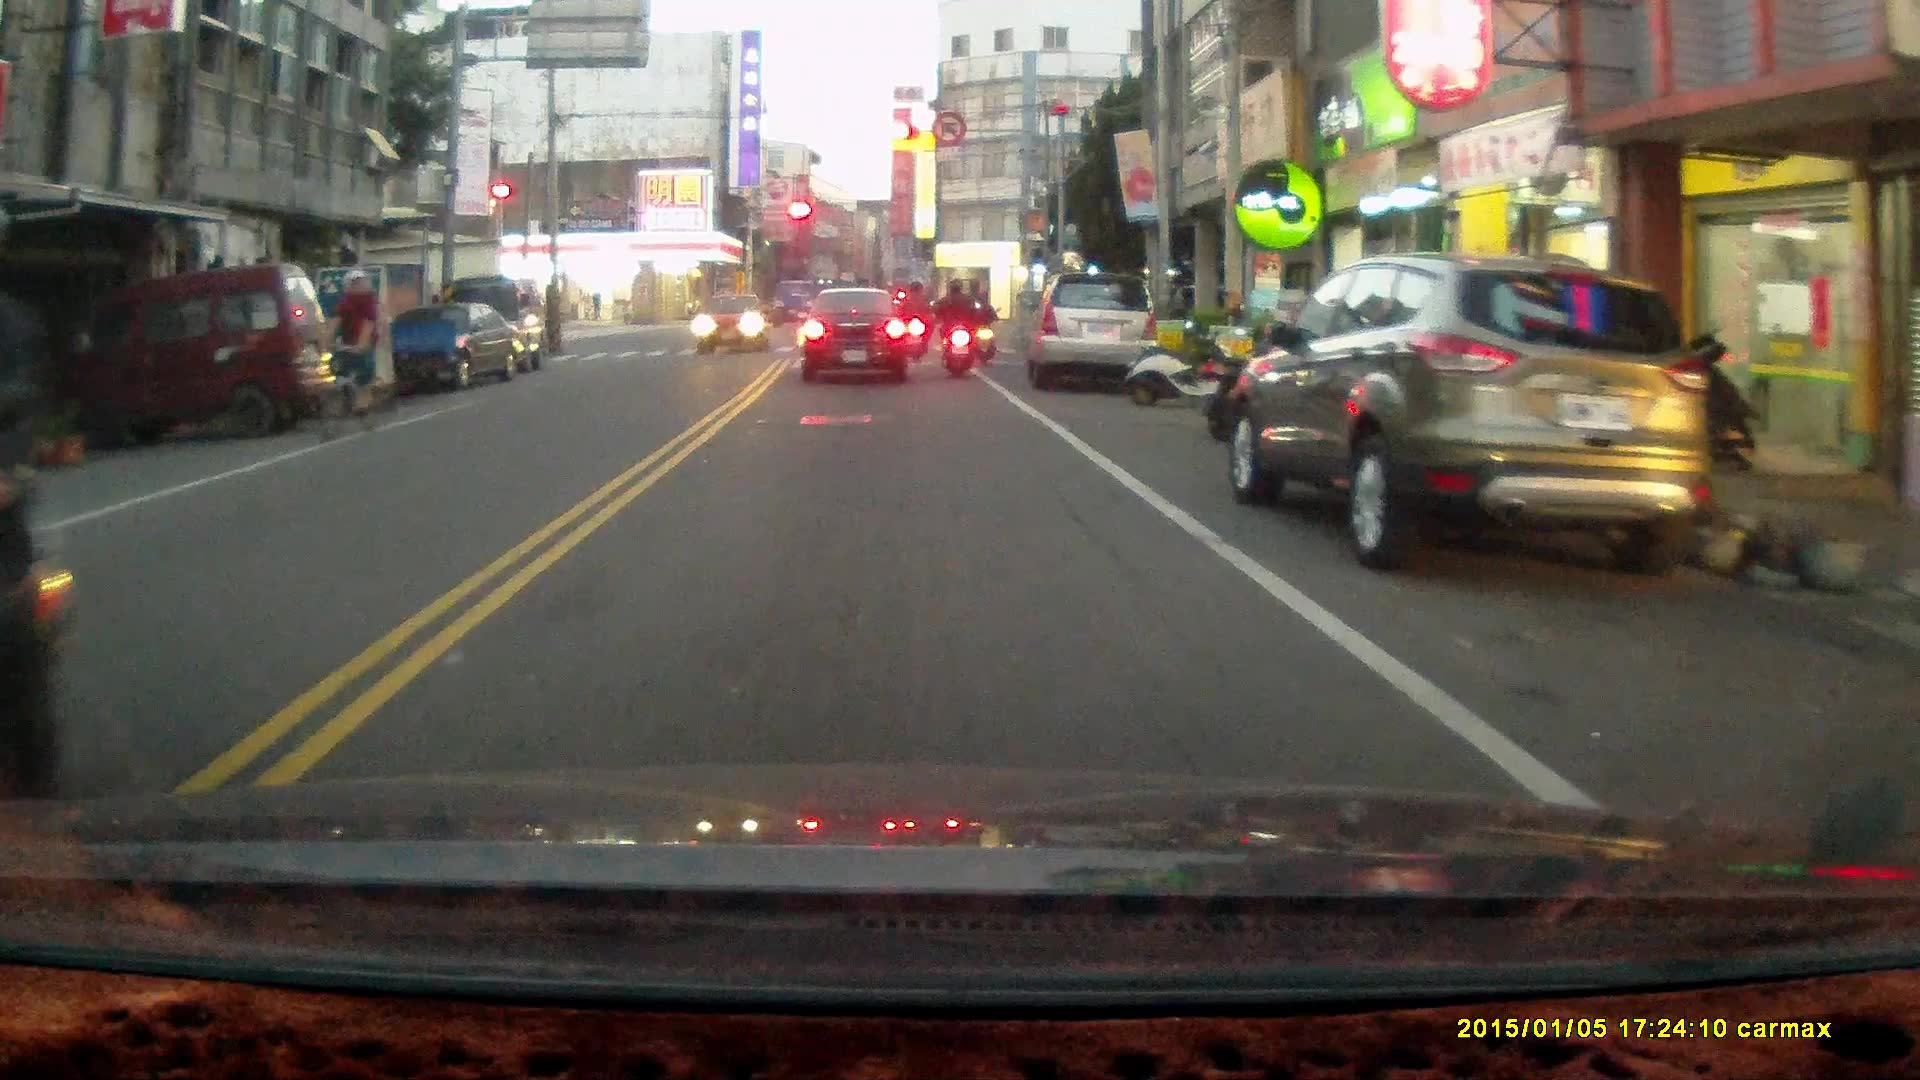rider: (317, 268, 382, 440), (930, 271, 979, 378), (895, 273, 931, 360), (967, 285, 997, 365)
vehicle: (1226, 254, 1701, 578), (69, 261, 339, 440), (1025, 270, 1162, 392), (801, 281, 913, 384), (394, 297, 515, 390), (696, 291, 771, 356)
